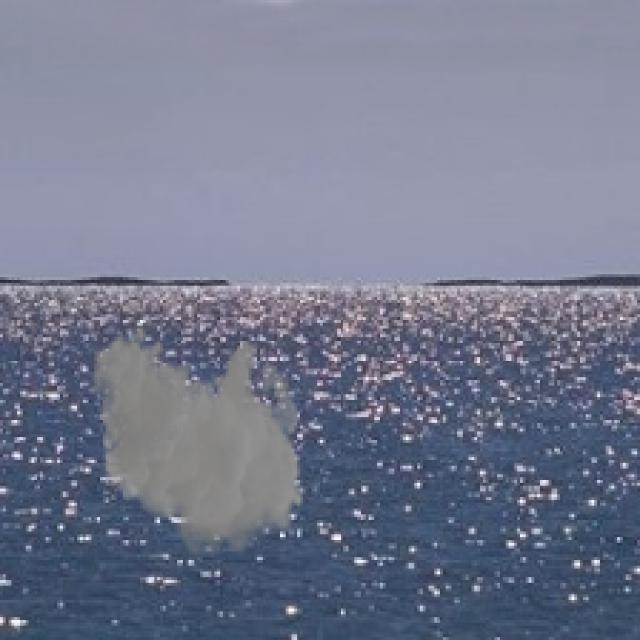Smoke: (91, 326, 306, 566)
